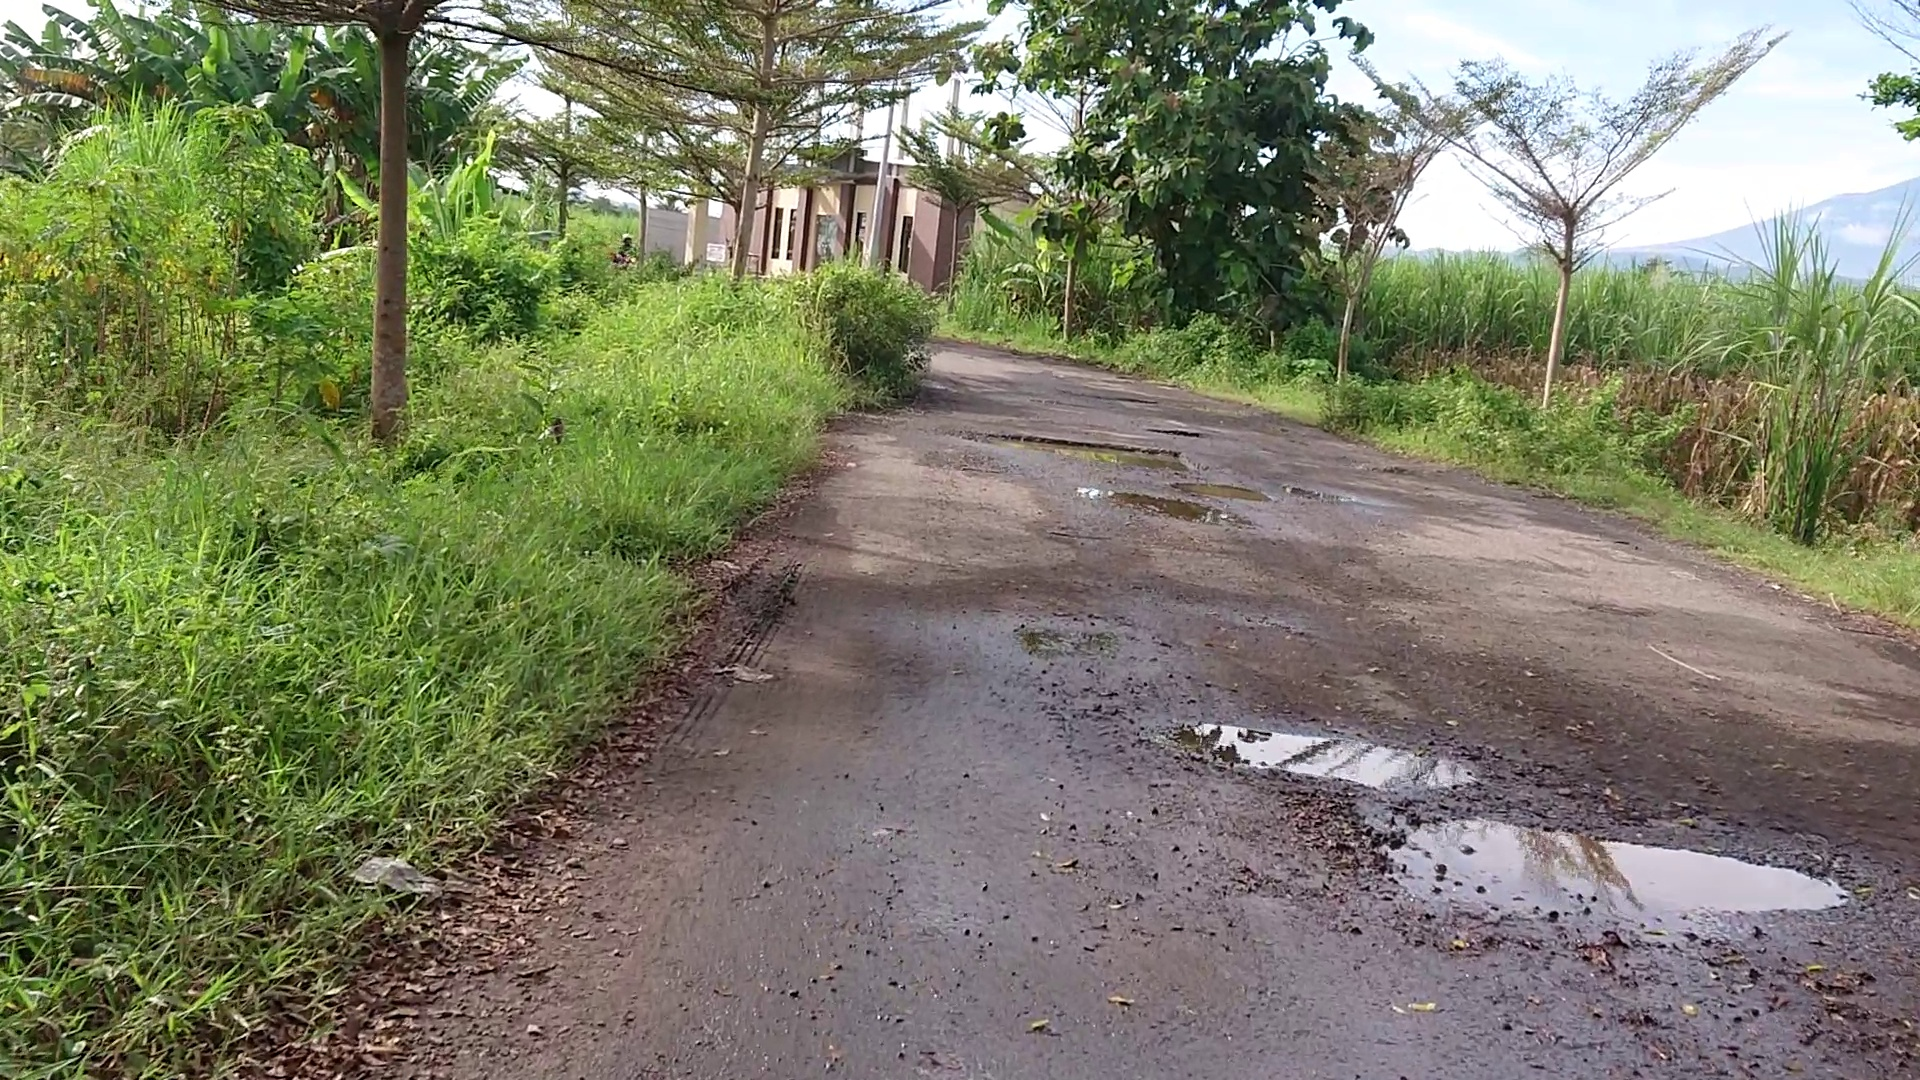Berlubang: (1414, 824, 1828, 919), (1000, 436, 1276, 541), (1197, 719, 1472, 790)
